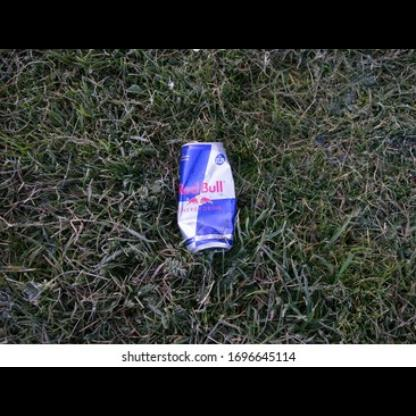Tin_Can: (171, 138, 245, 260), (179, 192, 228, 236), (181, 146, 204, 191), (206, 159, 229, 190)
